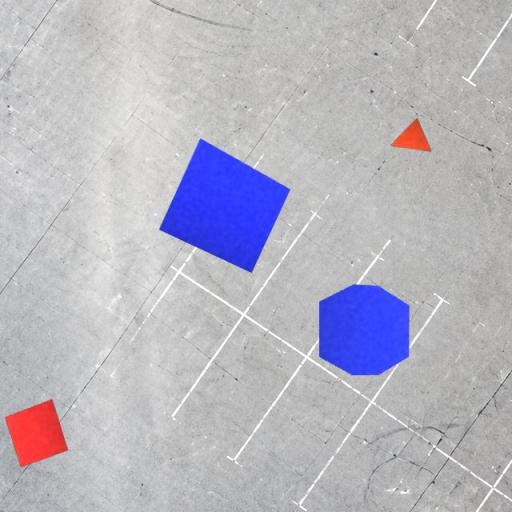BLUE_SQUARE: (158, 138, 292, 274)
RED_SQUARE: (5, 398, 69, 468)
